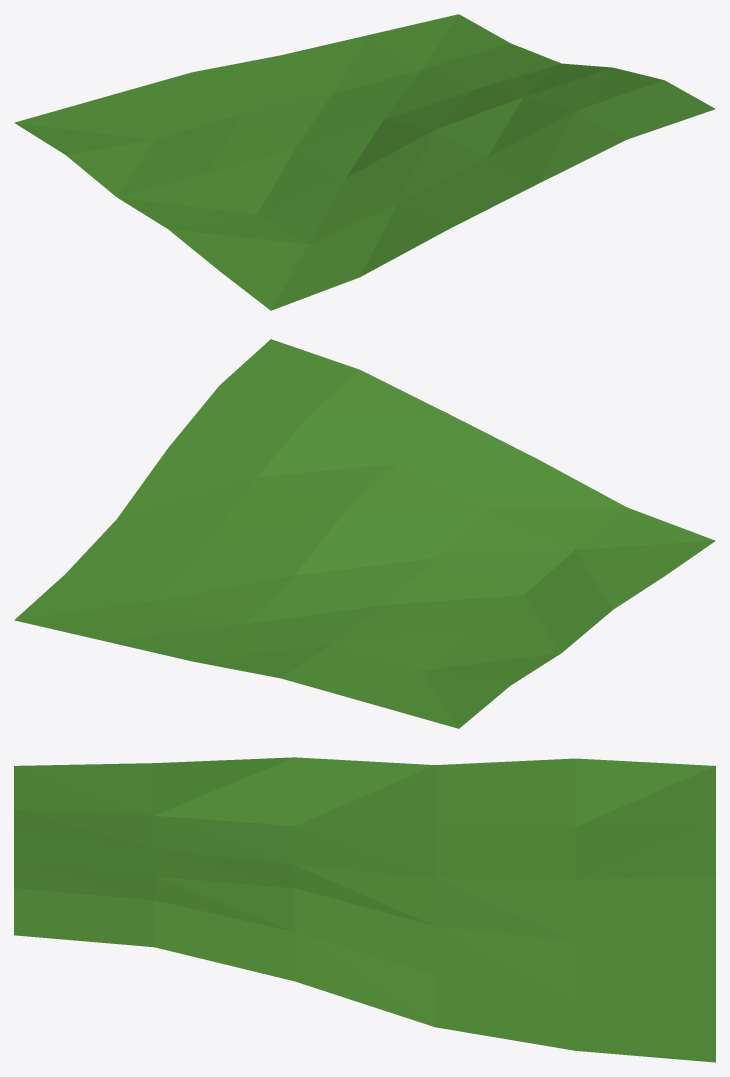
Rendered from terrains-terrain-plane-hill2.glb.
3 renders of one model, top to bottom at view 1: azimuth 30°, elevation 25°; view 2: azimuth 150°, elevation 25°; view 3: azimuth 270°, elevation 25°, orthographic. The views are drawn at different scales.
Visible parts, largest first — view 1: terrain-plane-hill2; view 2: terrain-plane-hill2; view 3: terrain-plane-hill2.
Boxes of the visible parts, <box> form: terrain-plane-hill2: <box>14,14,715,310</box>; terrain-plane-hill2: <box>14,339,715,728</box>; terrain-plane-hill2: <box>14,757,715,1062</box>.
Bounding box in the file's own units: 30 × 6.08 × 30.
